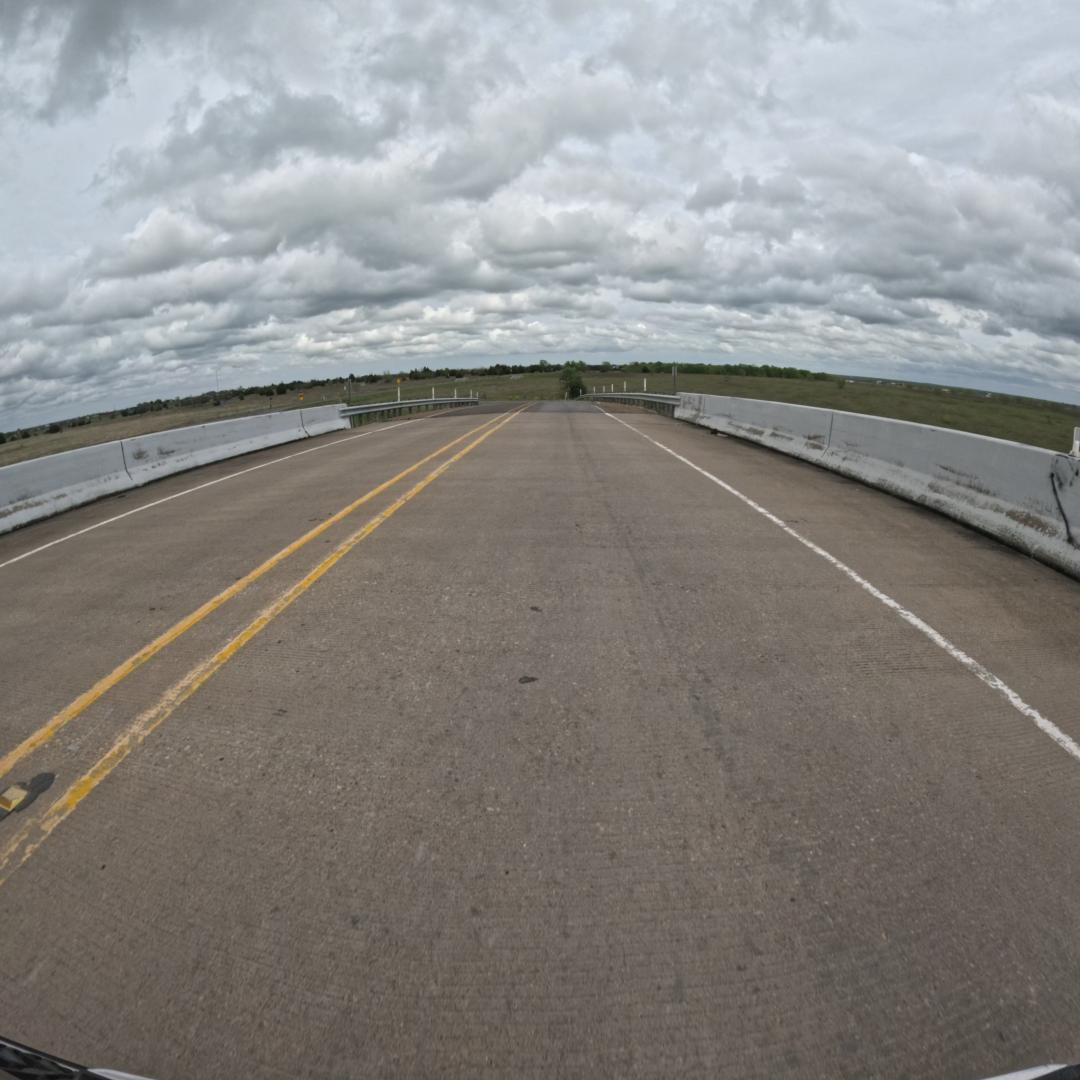lane0: (0, 409, 1080, 1077)
